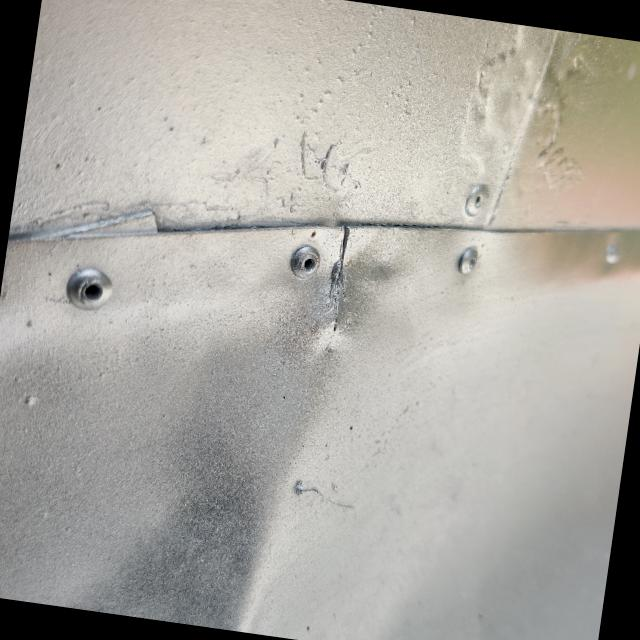dent: (47, 209, 436, 640)
